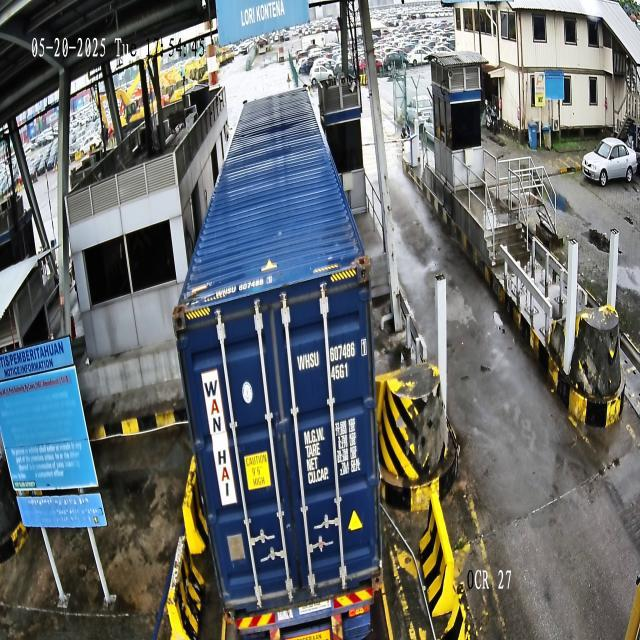ISO: (330, 360, 350, 380)
container_number: (297, 337, 368, 370)
